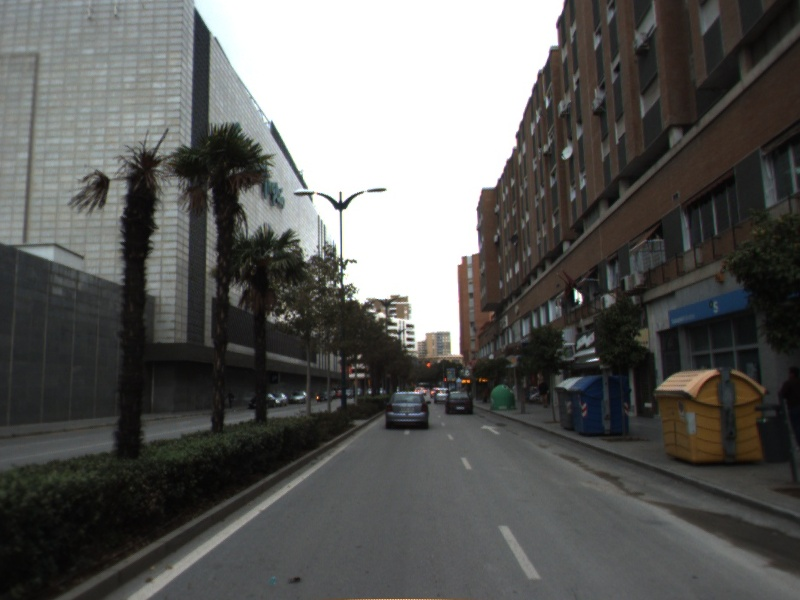STRAIGHT: (479, 423, 503, 437)
